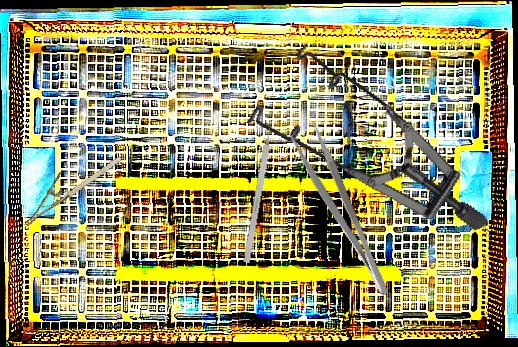Dressing Forceps: (286, 119, 395, 306)
Hook Surgical: (242, 118, 276, 263)
Needle Holder: (9, 140, 125, 228)
Speculum: (228, 7, 490, 295)
